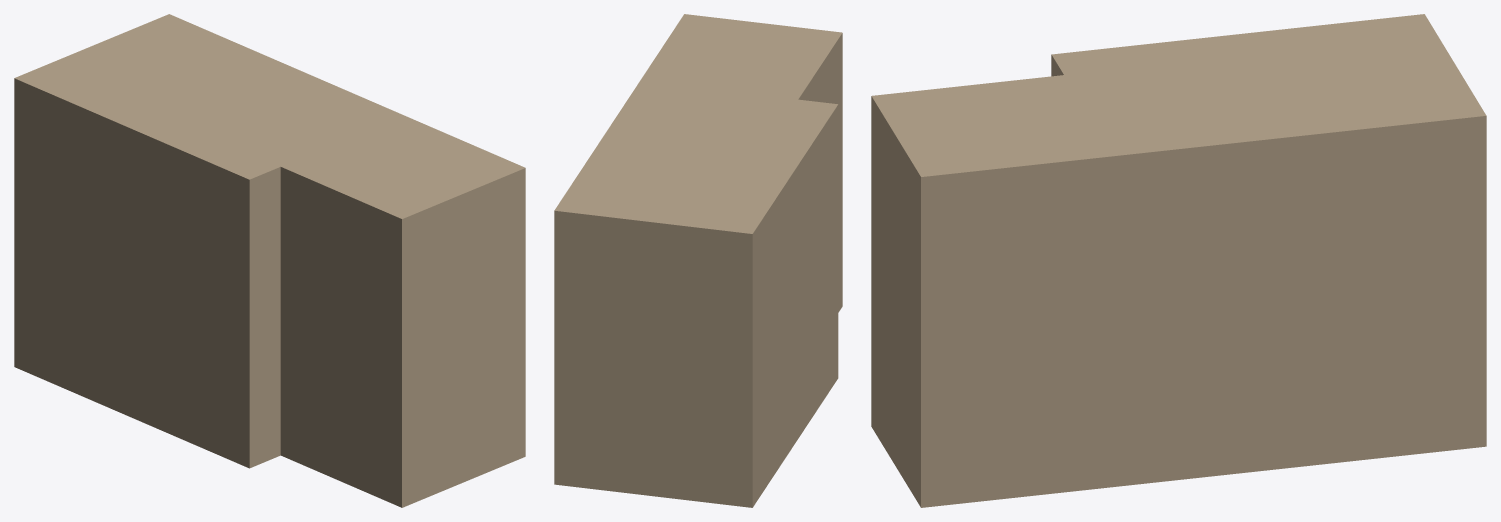
The model's file is bld_107625347.dae.
3 renders of one model, left to right at view 1: azimuth 30°, elevation 25°; view 2: azimuth 150°, elevation 25°; view 3: azimuth 270°, elevation 25°, orthographic. The views are drawn at different scales.
Parts seen in each view (by area): view 1: bld_107625347; view 2: bld_107625347; view 3: bld_107625347.
Boxes of the visible parts, box(x1,y1,x2,y2) form: bld_107625347: box(14, 14, 525, 507); bld_107625347: box(554, 14, 842, 507); bld_107625347: box(871, 14, 1486, 507).
Bounding box in the file's own units: 8.46 × 13.48 × 8.
